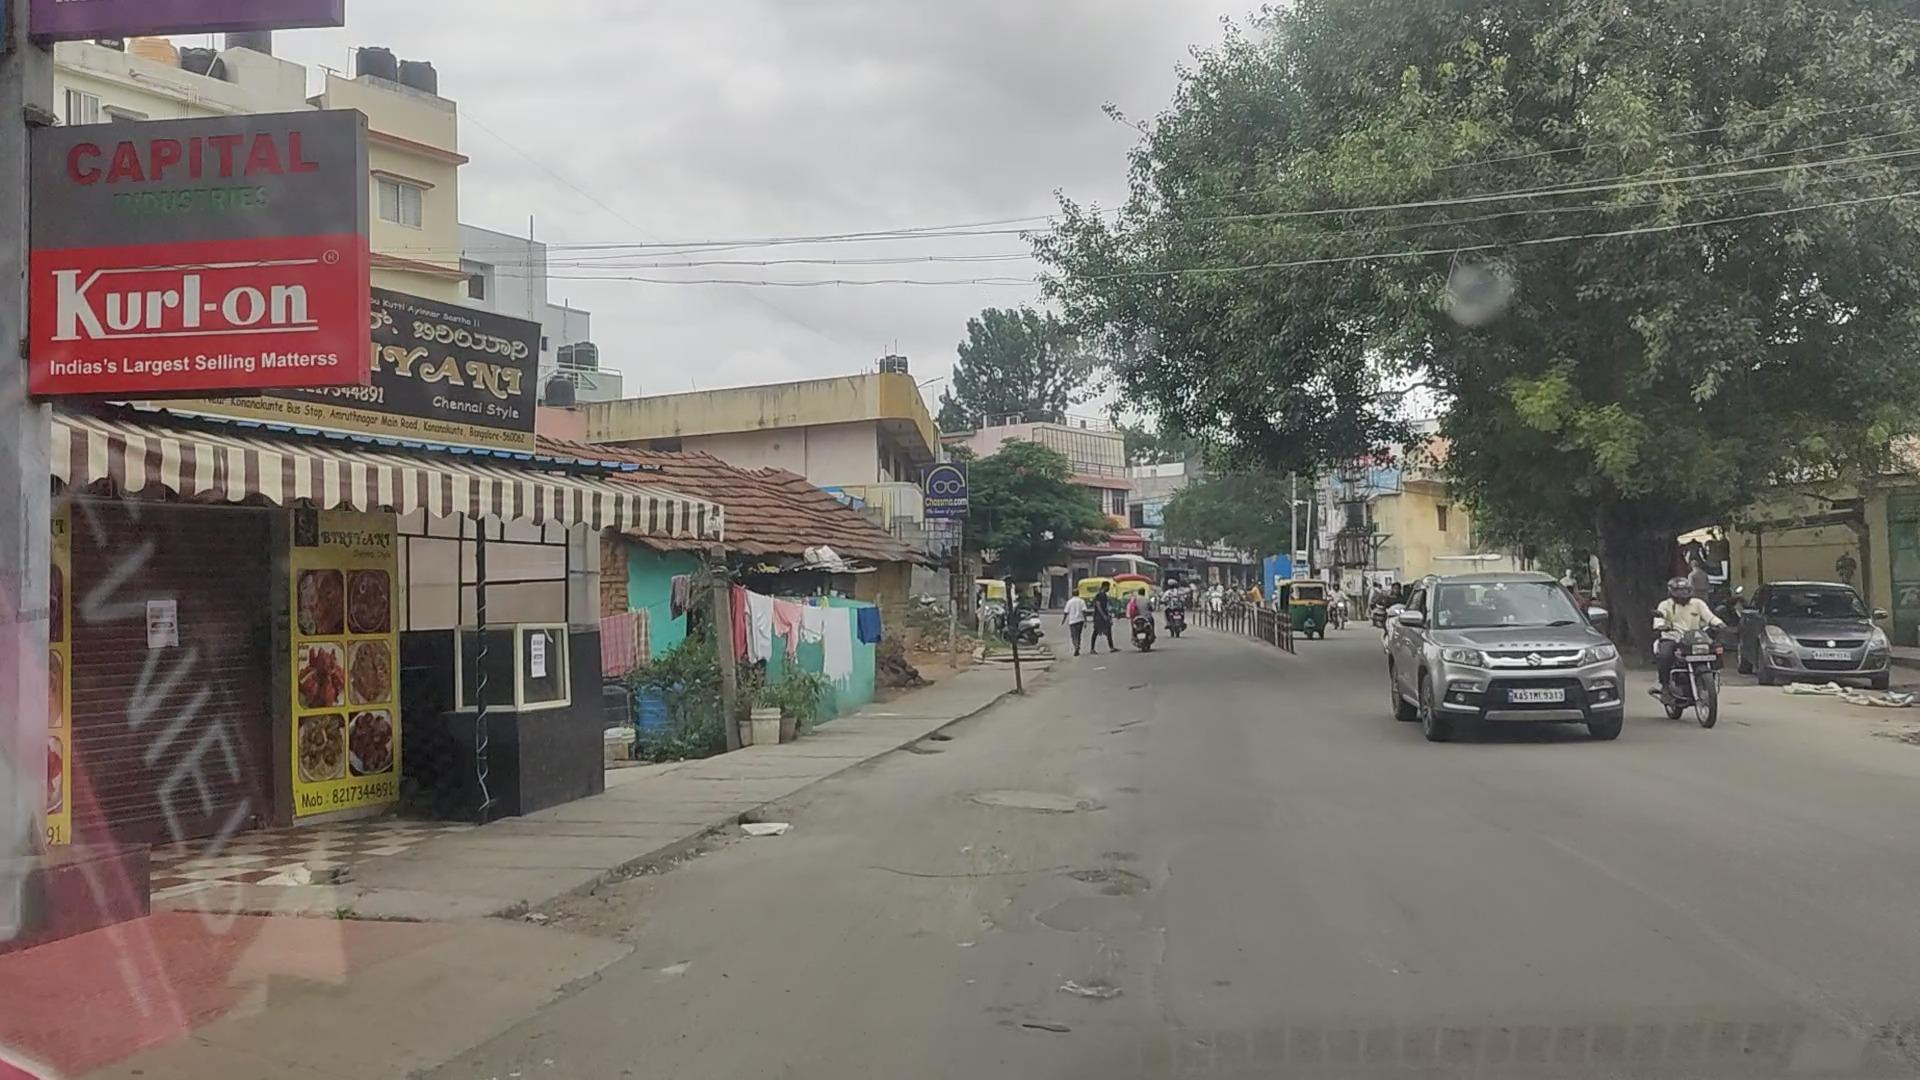RoadDamages: (1029, 855, 1159, 944), (934, 840, 1023, 948), (971, 778, 1121, 823)
